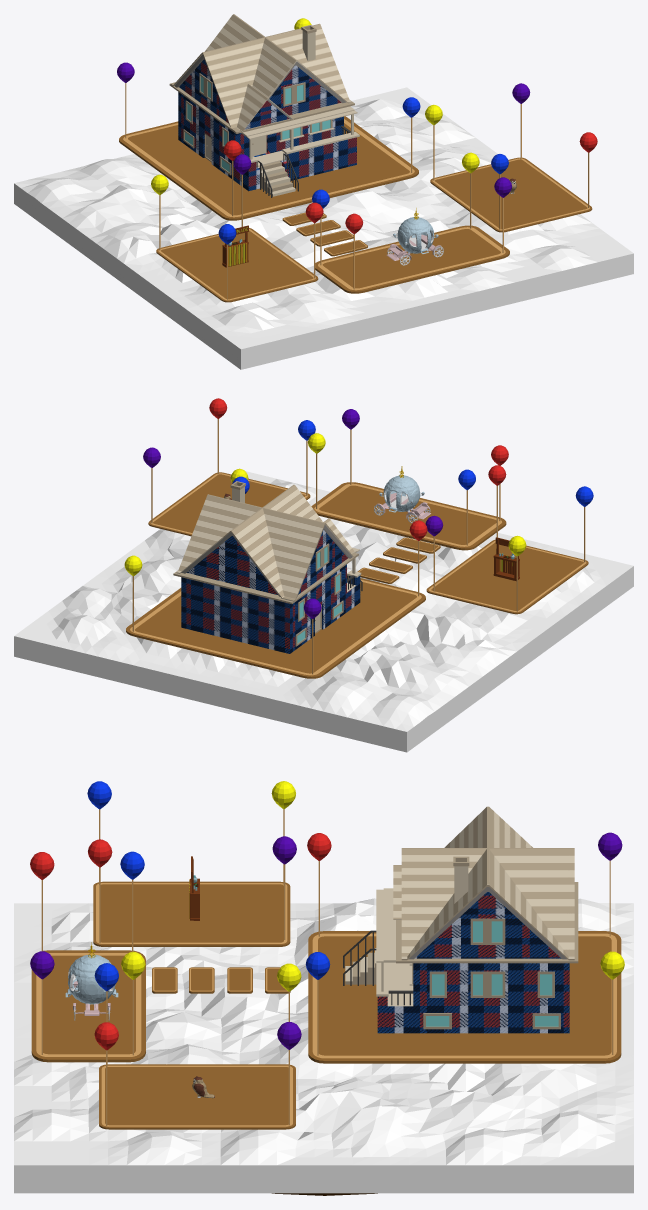
3 renders of one model, top to bottom at view 1: azimuth 30°, elevation 25°; view 2: azimuth 150°, elevation 25°; view 3: azimuth 270°, elevation 25°, orthographic. The views are drawn at different scales.
Visible parts, largest first — view 1: Cube.013, Cube.171, VEHICLES_FANTASY_CARRIAGE, OBJRANDOM_LEMONADE_STAND; view 2: Cube.013, Cube.171, VEHICLES_FANTASY_CARRIAGE, OBJRANDOM_LEMONADE_STAND; view 3: Cube.013, Cube.171, VEHICLES_FANTASY_CARRIAGE.
Part boxes in pixels (<box>): Cube.013: <box>14,18,633,369</box>; Cube.171: <box>169,14,359,197</box>; VEHICLES_FANTASY_CARRIAGE: <box>386,208,443,265</box>; OBJRANDOM_LEMONADE_STAND: <box>222,225,248,267</box>; Cube.013: <box>14,398,633,752</box>; Cube.171: <box>173,481,362,653</box>; VEHICLES_FANTASY_CARRIAGE: <box>374,466,430,523</box>; OBJRANDOM_LEMONADE_STAND: <box>493,537,519,581</box>; Cube.013: <box>14,781,633,1193</box>; Cube.171: <box>343,806,578,1033</box>; VEHICLES_FANTASY_CARRIAGE: <box>65,942,118,1020</box>.
Bounding box in the file's own units: 4000 × 1754 × 4000.
35 materials, 2 textured.
